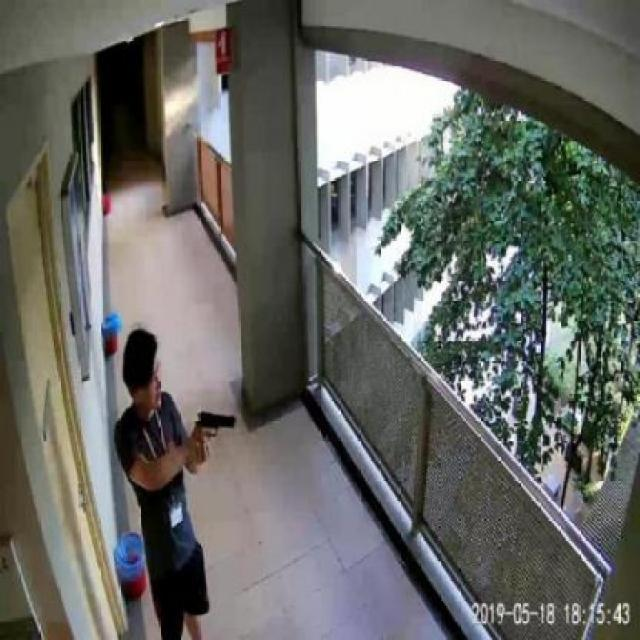gun: (192, 407, 235, 462)
